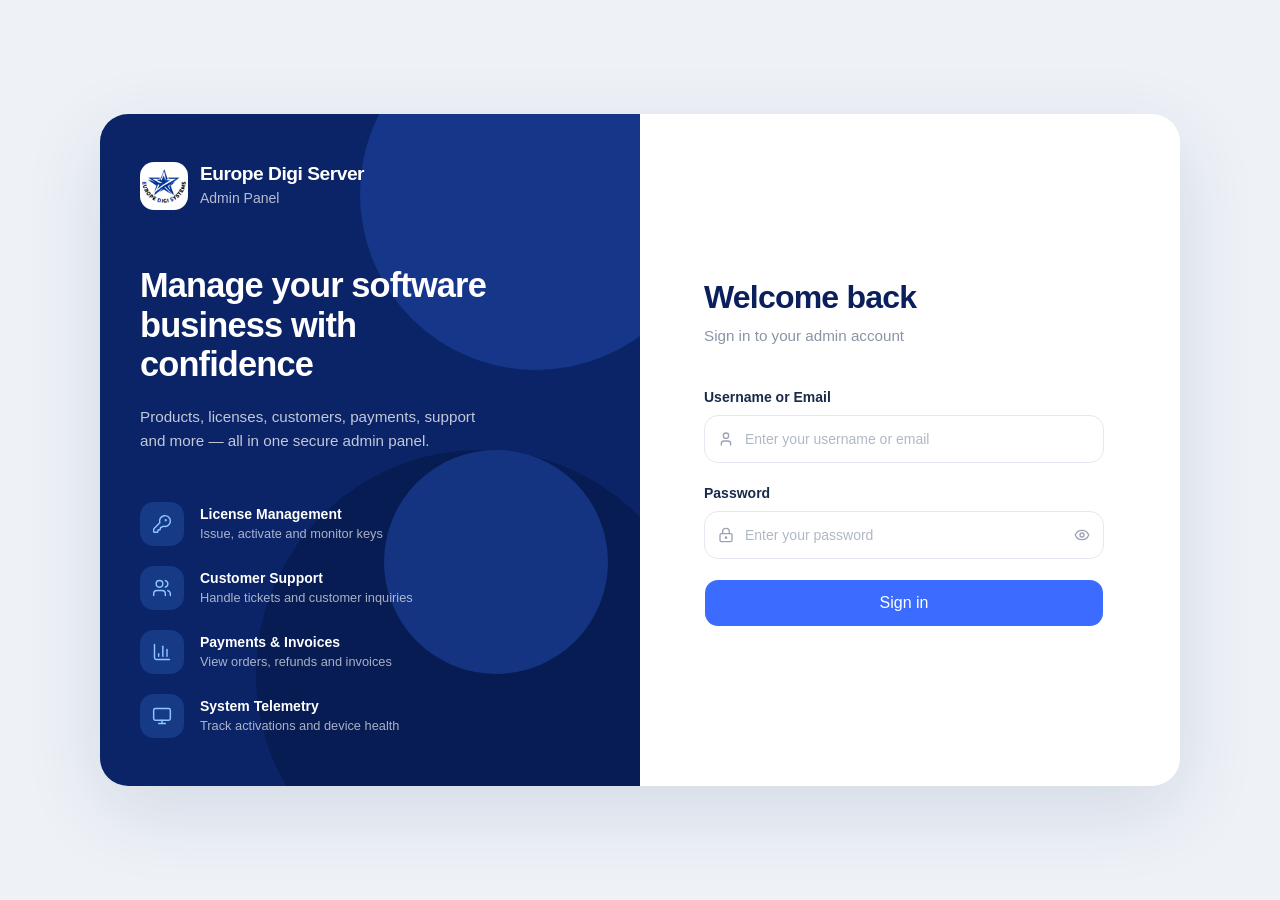
Test: LoginPage › shows field errors for empty, invalid email, and short password
Click the button "Sign in" at (904, 603), box [704, 579, 1104, 627]
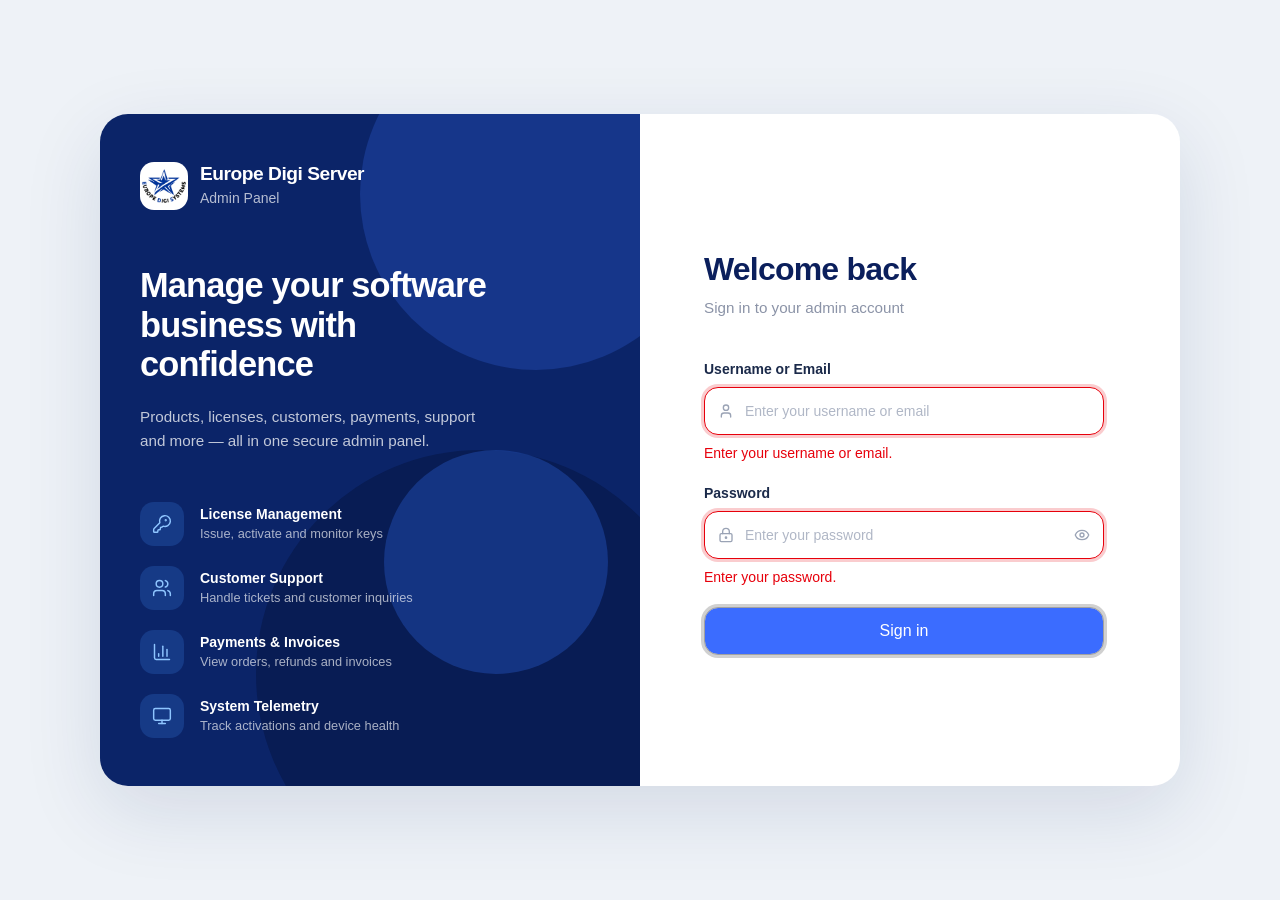
Now the text "Enter your username or email." is shown, box [704, 445, 892, 461]
Now the text "Enter your password." is shown, box [704, 569, 836, 585]
Type "not-an-email@" into the field labelled "Username or Email" at (904, 411), box [704, 387, 1104, 435]
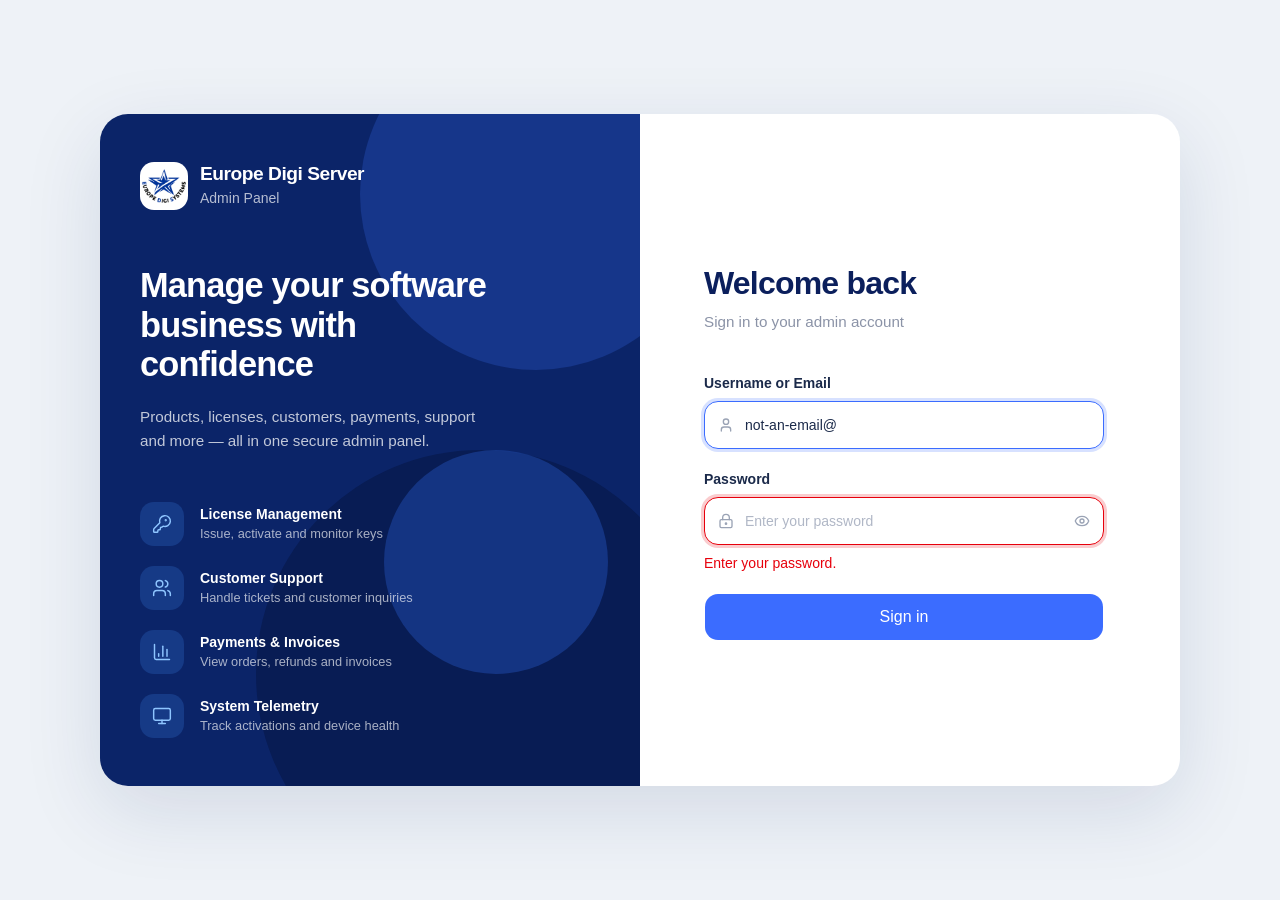
Type "short" into the password field labelled "Password" at (904, 521), box [704, 497, 1104, 545]
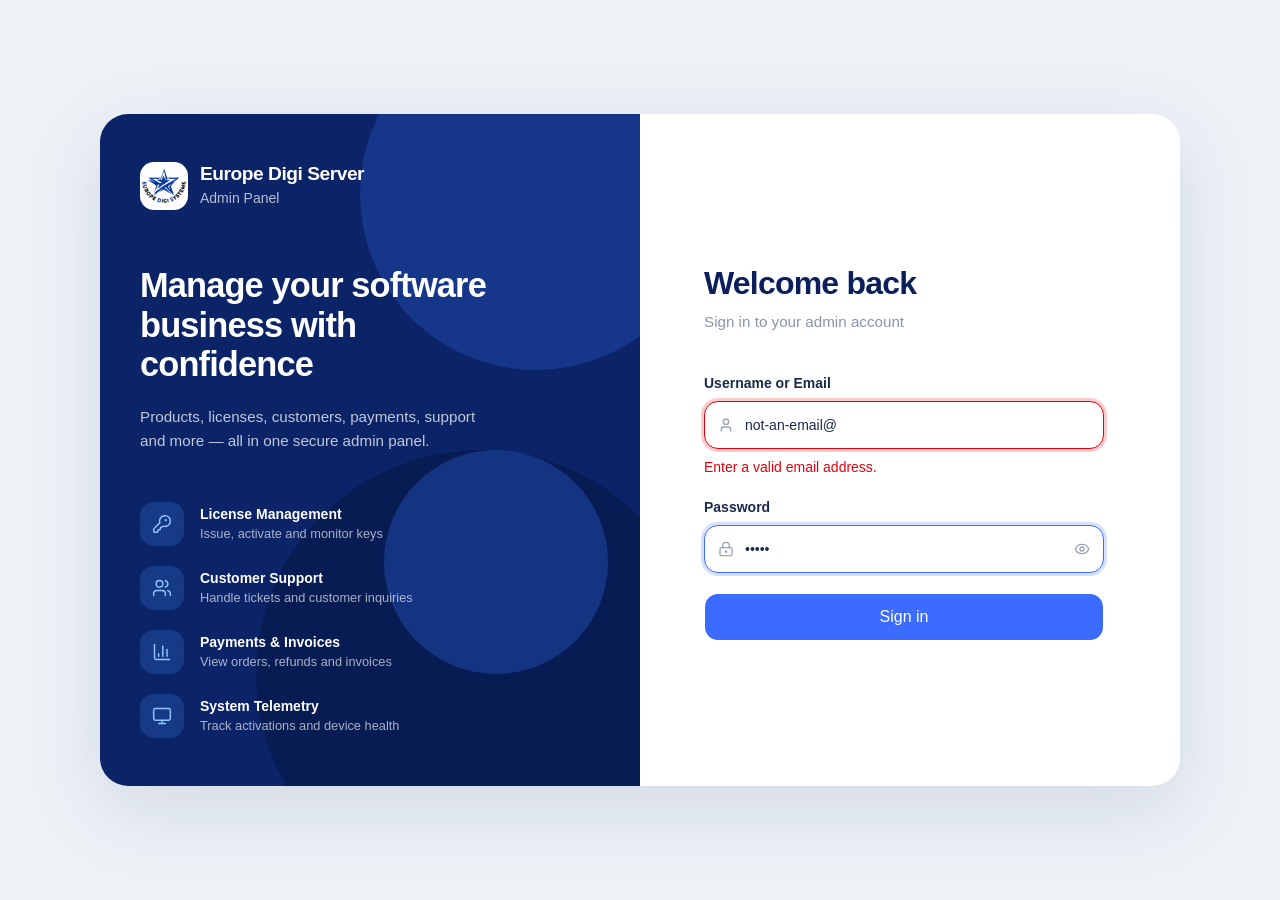
Click the button "Sign in" at (904, 617), box [704, 593, 1104, 641]
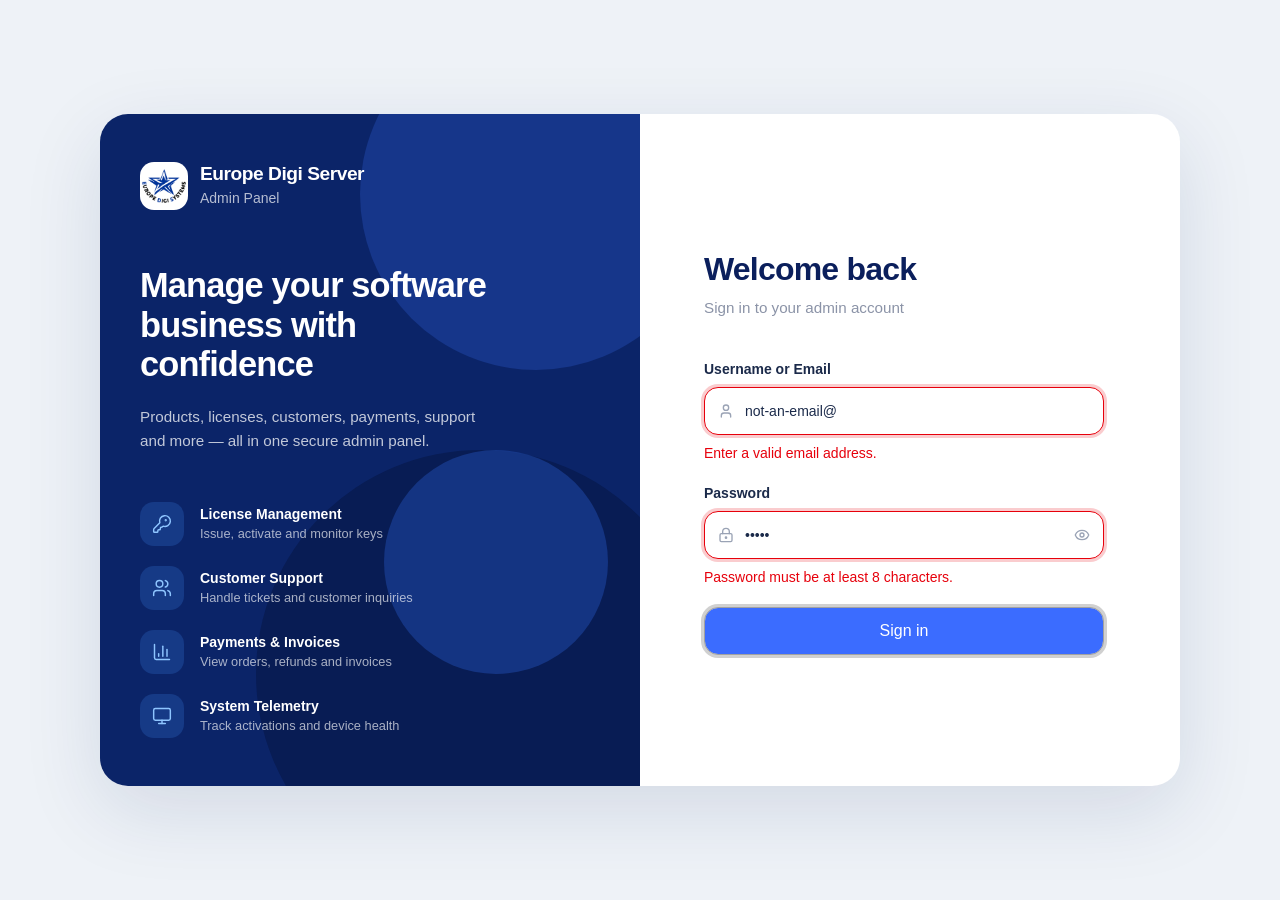
Now the text "Enter a valid email address." is shown, box [704, 445, 877, 461]
Now the text "Password must be at least 8 characters." is shown, box [704, 569, 953, 585]
